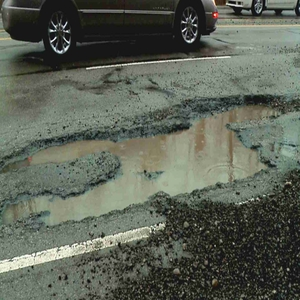pothole: (3, 94, 300, 225)
